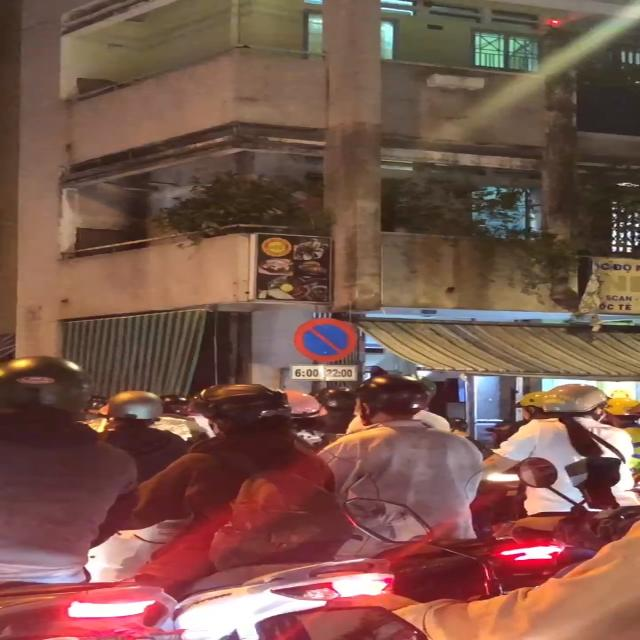Bien bao cam do xe: (290, 317, 368, 366)
